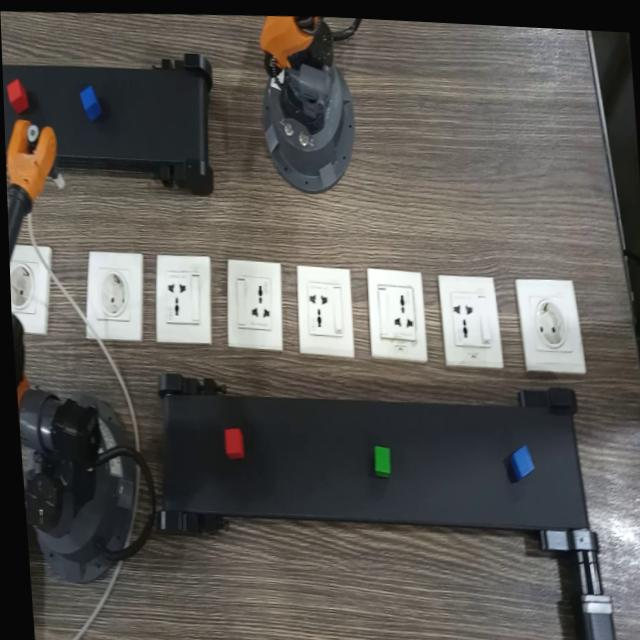cube: (70, 80, 102, 124), (503, 435, 532, 478), (365, 436, 391, 477), (2, 73, 27, 115), (218, 419, 242, 459)
